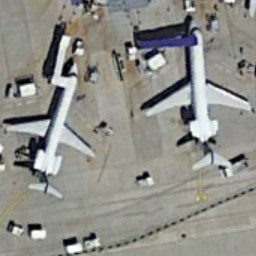Airplane: (131, 14, 255, 191), (2, 54, 103, 208)
